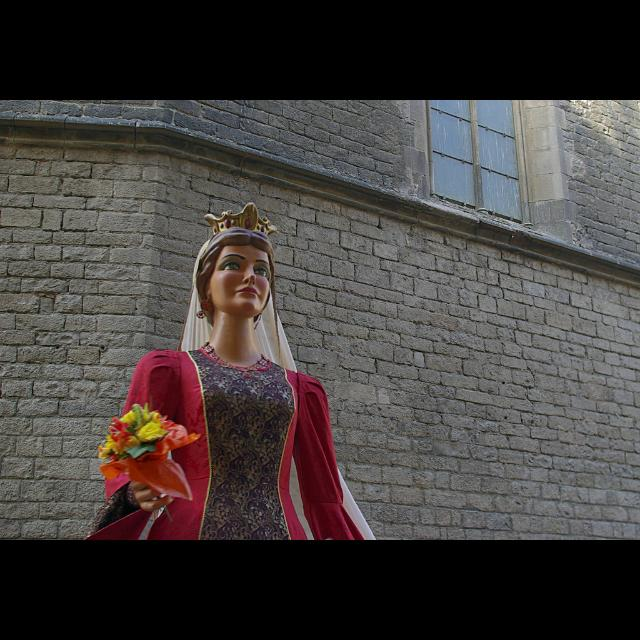Flower: (104, 405, 190, 479)
